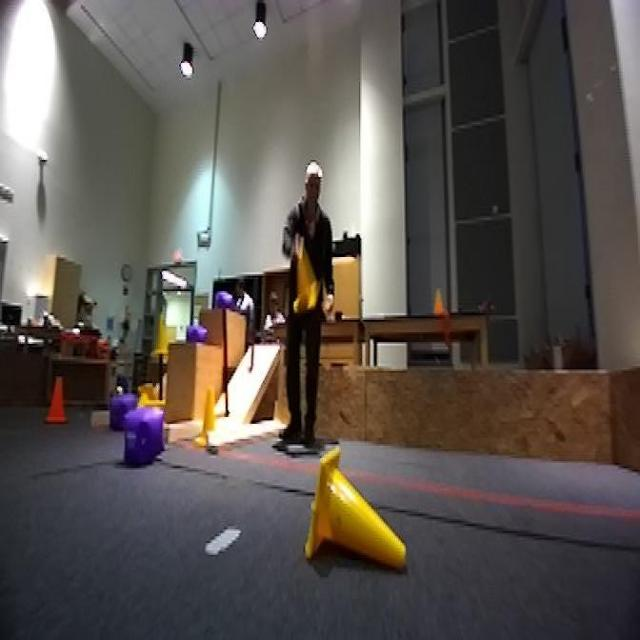frc_cone: (306, 446, 410, 563), (290, 245, 320, 315), (193, 385, 218, 444), (134, 378, 165, 410), (150, 310, 167, 362)
frc_cube: (126, 410, 164, 470), (104, 390, 141, 434), (183, 320, 211, 342), (210, 290, 234, 312)
